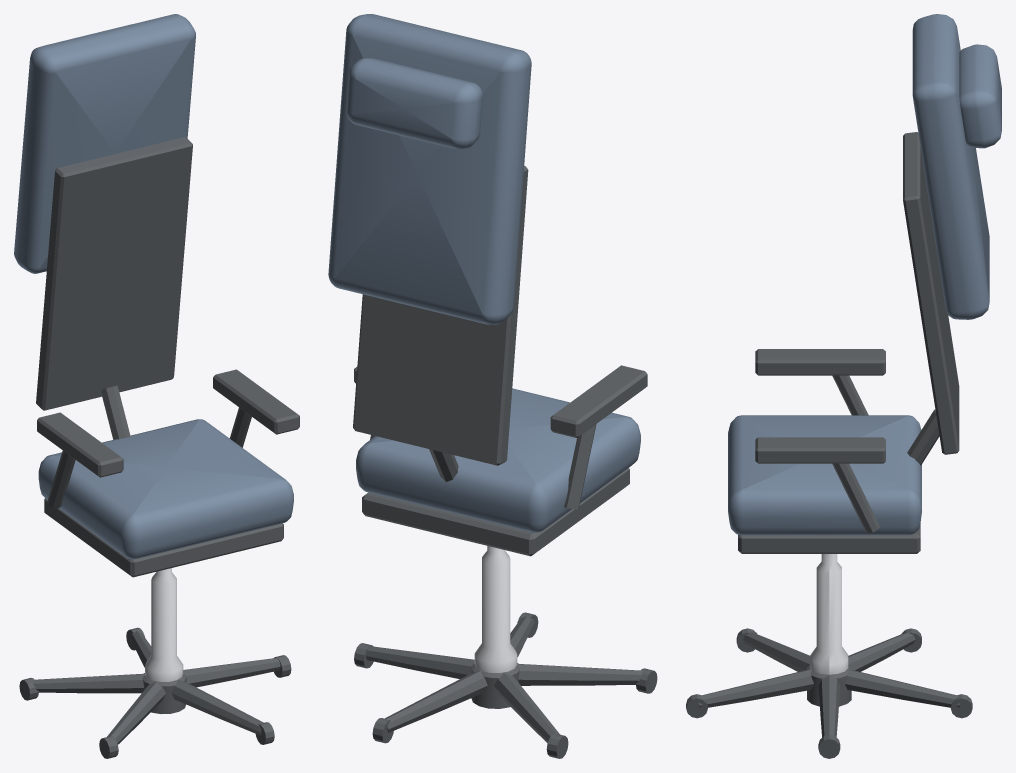
Rendered from nuclear-power-station-and-control-room-operator-chair--8e836687__36918.glb.
3 renders of one model, left to right at view 1: azimuth 30°, elevation 25°; view 2: azimuth 150°, elevation 25°; view 3: azimuth 270°, elevation 25°, orthographic. The views are drawn at different scales.
Visible parts, largest first — view 1: seat/fabric, seat/dark, operator-chair-supervisor; view 2: seat/fabric, seat/dark, operator-chair-supervisor; view 3: seat/fabric, seat/dark, operator-chair-supervisor.
Part boxes in pixels (x1,y1,x2,y2): seat/fabric: (14, 14, 293, 559); seat/dark: (36, 137, 299, 577); operator-chair-supervisor: (19, 568, 291, 758); seat/fabric: (328, 14, 640, 532); seat/dark: (353, 166, 647, 556); operator-chair-supervisor: (354, 546, 657, 758); seat/fabric: (728, 14, 1001, 535); seat/dark: (738, 132, 959, 553); operator-chair-supervisor: (686, 554, 972, 758).
Bounding box in the file's own units: 0.607 × 1.65 × 0.7262.
